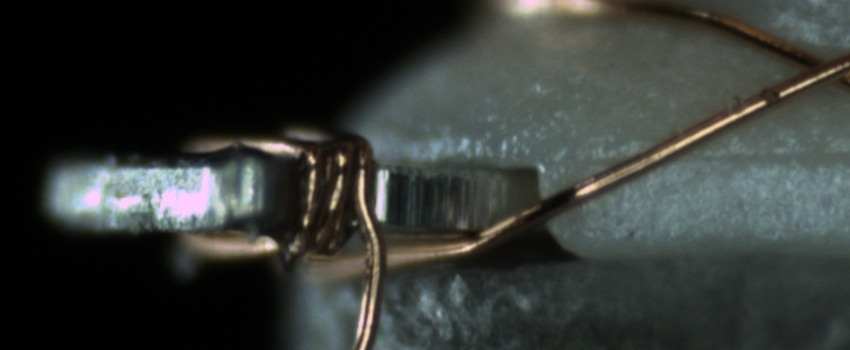CL: (777, 39, 849, 98)
DL: (602, 124, 850, 188)
TE: (189, 121, 386, 269)
